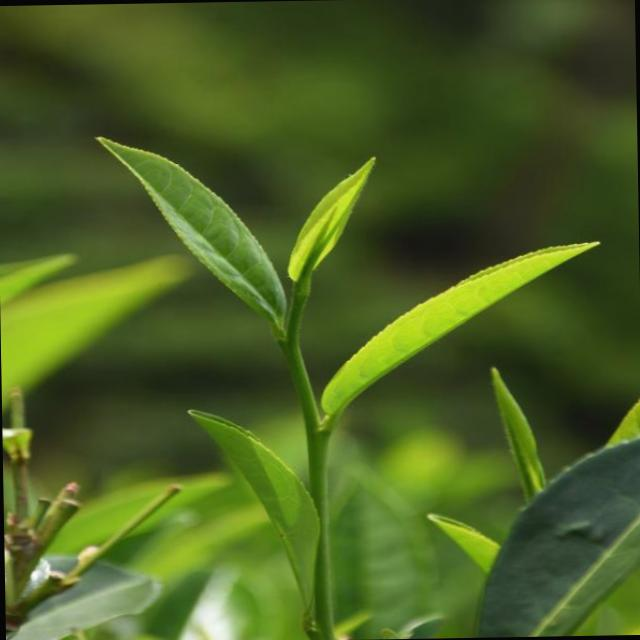Stem: (307, 426, 328, 450)
